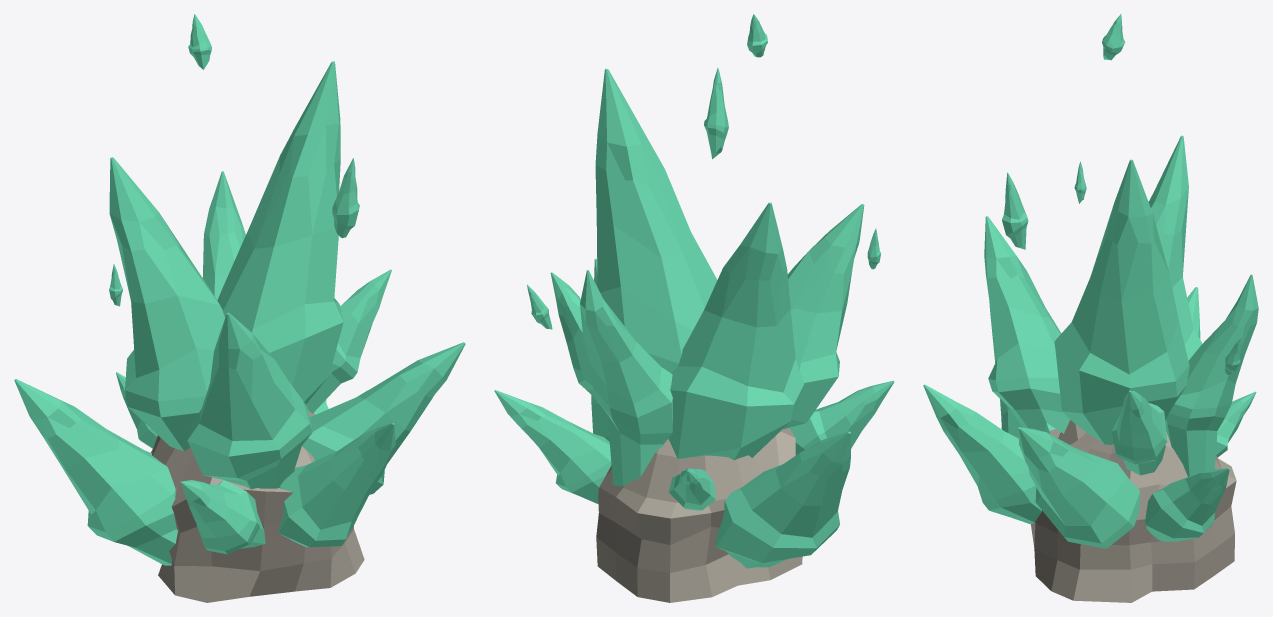
Rendered from Crystal_5_04.fbx.
3 renders of one model, left to right at view 1: azimuth 30°, elevation 25°; view 2: azimuth 150°, elevation 25°; view 3: azimuth 270°, elevation 25°, orthographic. The views are drawn at different scales.
Visible parts, largest first — view 1: Crystal_5_04; view 2: Crystal_5_04; view 3: Crystal_5_04.
Boxes of the visible parts, bbox=[...] form: Crystal_5_04: bbox=[14, 14, 465, 602]; Crystal_5_04: bbox=[494, 14, 894, 602]; Crystal_5_04: bbox=[923, 14, 1258, 602].
Bounding box in the file's own units: 145 × 218 × 127.
